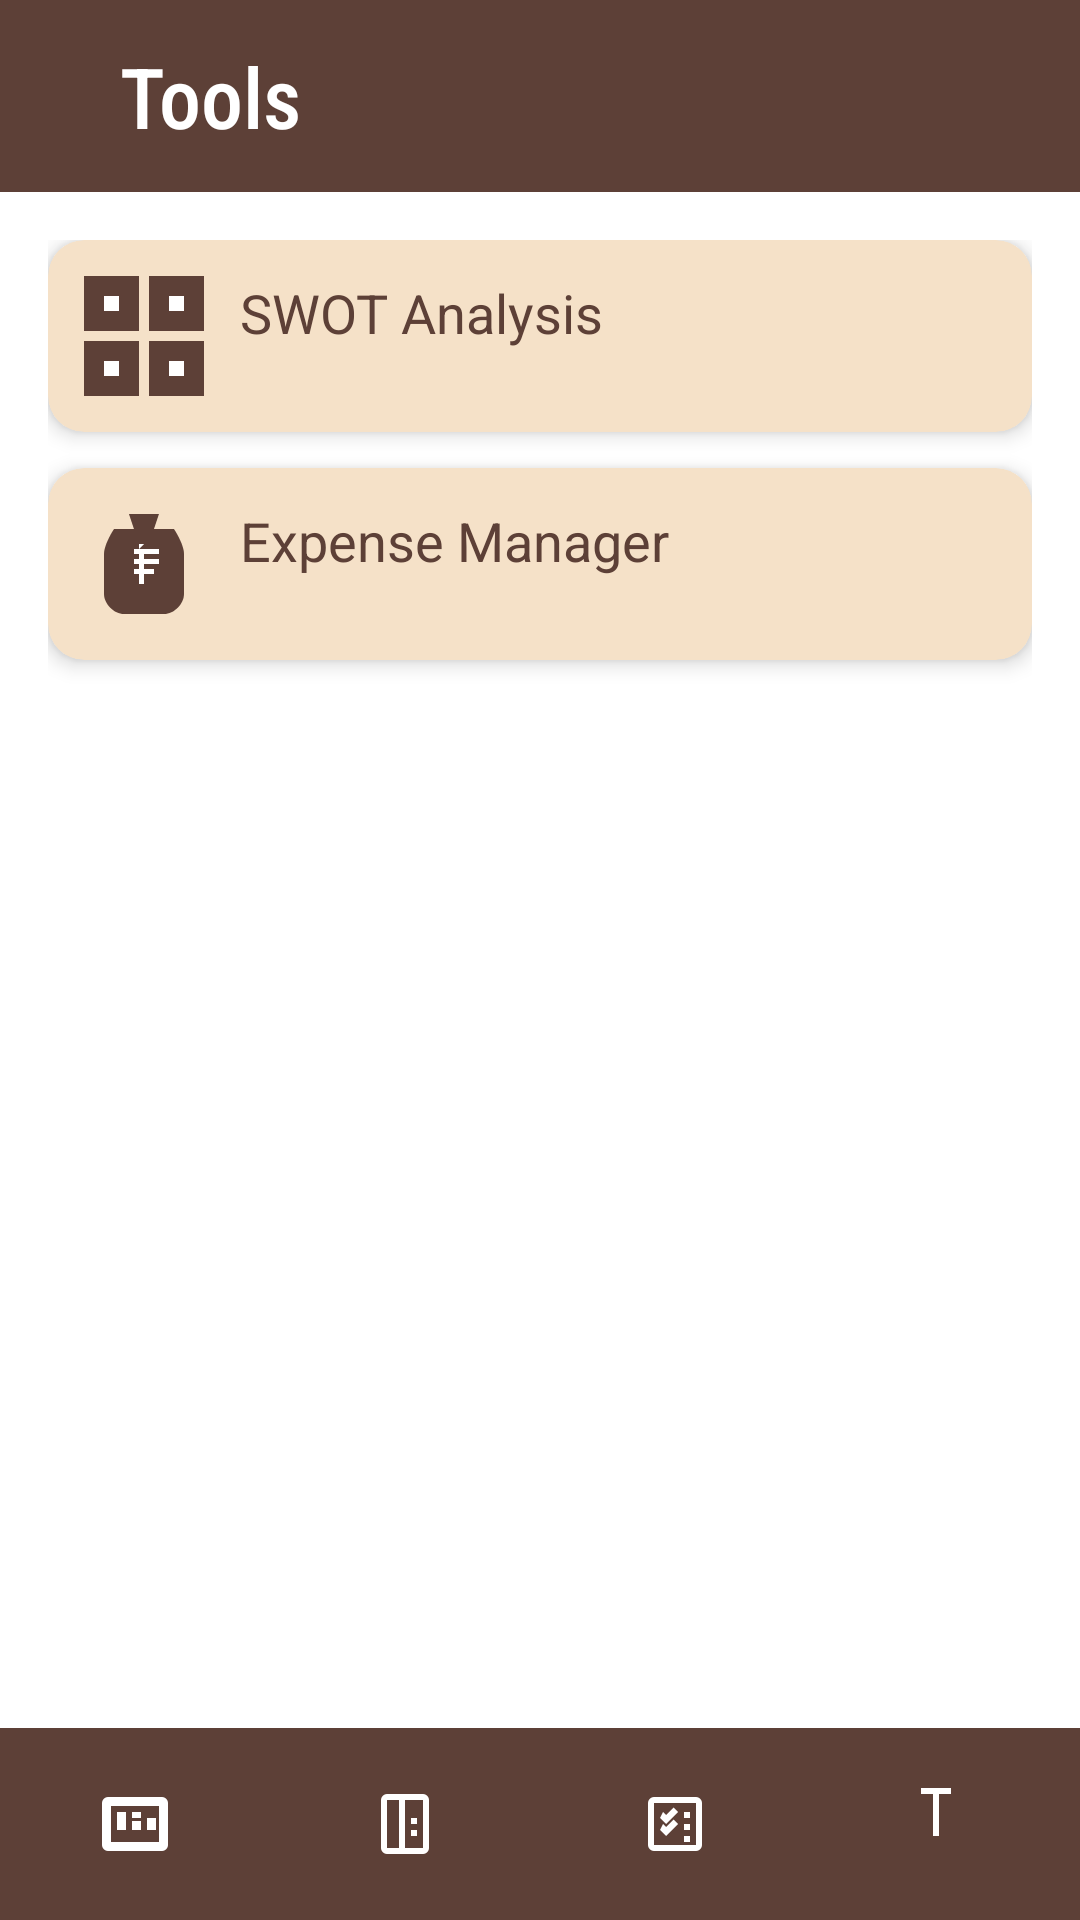

Icon click points for this 1080px×1920px phone screenshot, format [x,y]:
Diary: [405,1824]
Tasks: [675,1824]
